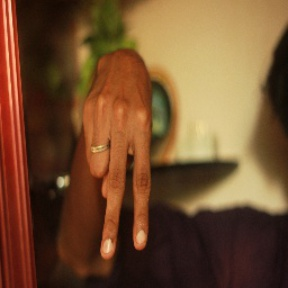Y: (75, 84, 156, 265)
